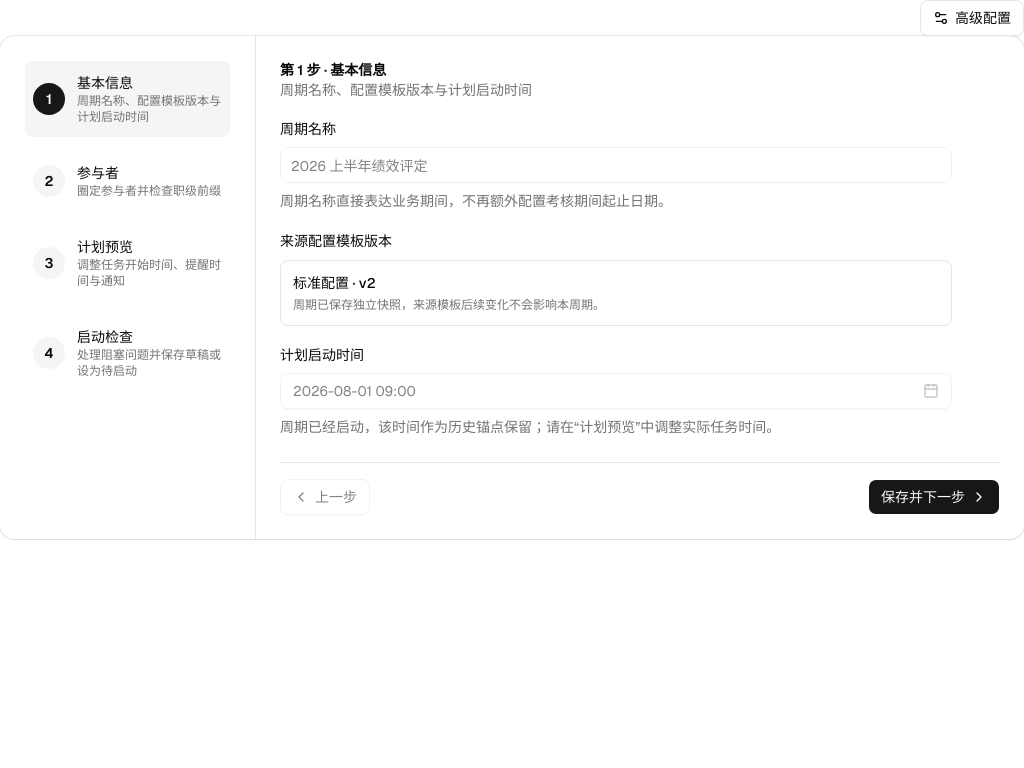
Test: CycleSetupEditor › ACTIVE 可补加参与者并调整任务时间，但保留已启动基础锚点且不允许重套模板
This screenshot has width=1024, height=768.
Expected: the field labelled "周期名称" is disabled, [280,147,952,183]
Expected: the button named "计划启动时间" is disabled, [280,373,952,409]
Click the button "2 参与者 圈定参与者并检查职级前缀": (128, 181) [24,150,231,212]
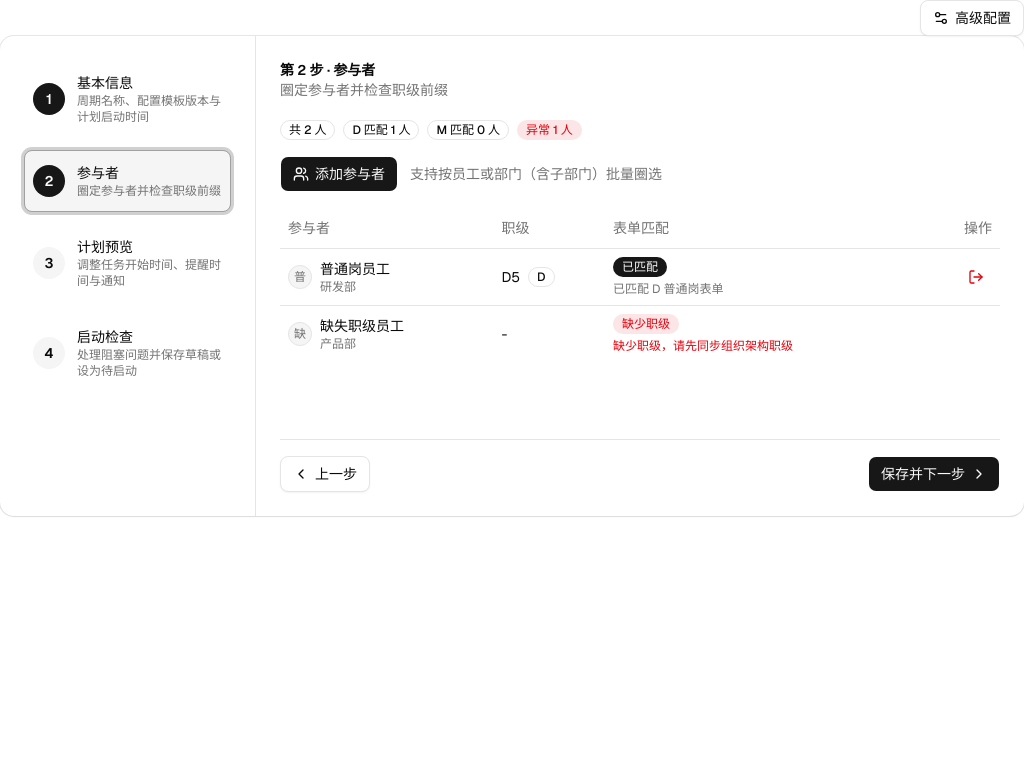
Now the button "添加参与者" is shown, box [280,156,398,192]
Now the button named "中途退出 普通岗员工" is shown, box [960,260,992,292]
Click the button "3 计划预览 调整任务开始时间、提醒时间与通知": (128, 263) [24,224,231,302]
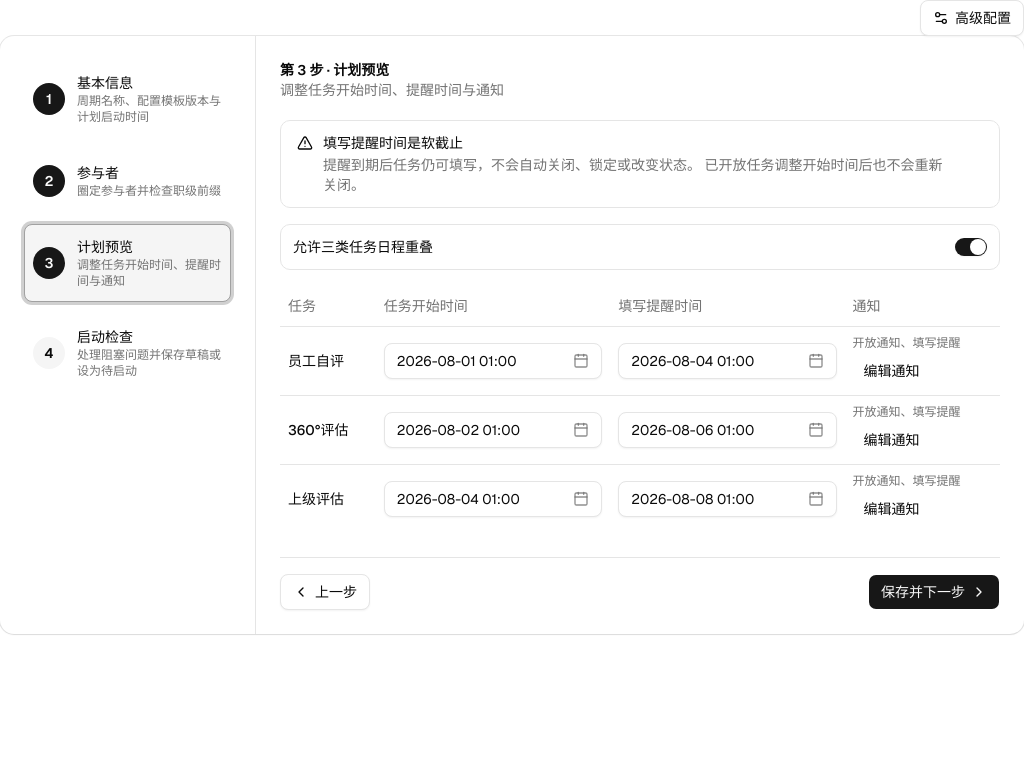
Now the button "编辑通知" in the row of "员工自评" is enabled, box [853,354,931,386]
Now the button "编辑通知" in the row of "360°评估" is enabled, box [853,424,931,456]
Now the button "编辑通知" in the row of "上级评估" is enabled, box [853,492,931,524]
Click the button "4 启动检查 处理阻塞问题并保存草稿或设为待启动": (128, 353) [24,314,231,392]
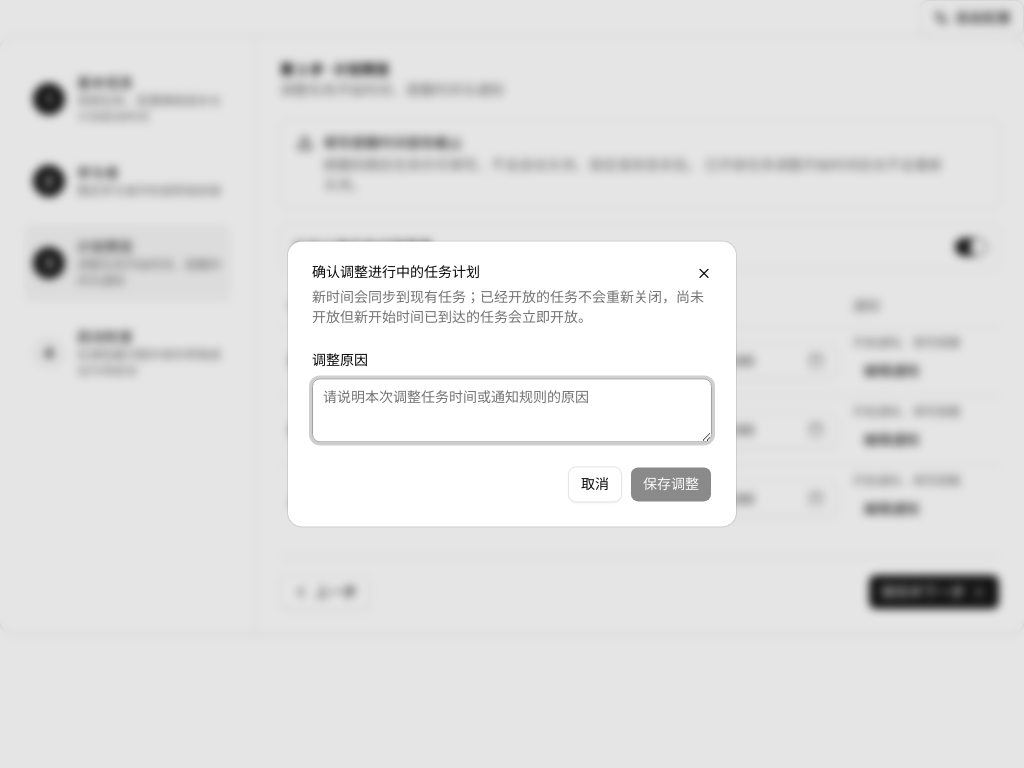
In the text box labelled "调整原因": (512, 411) [312,379,712,443], type "调整评估时间安排"
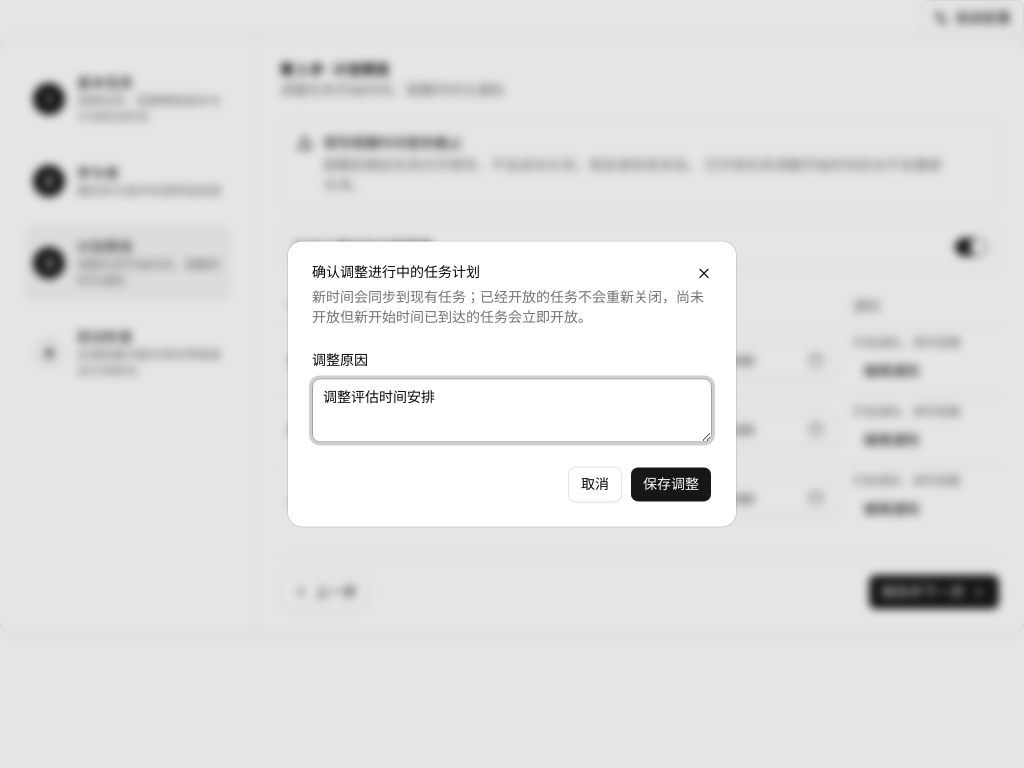
Click the button "保存调整": (671, 485) [630,467,712,503]
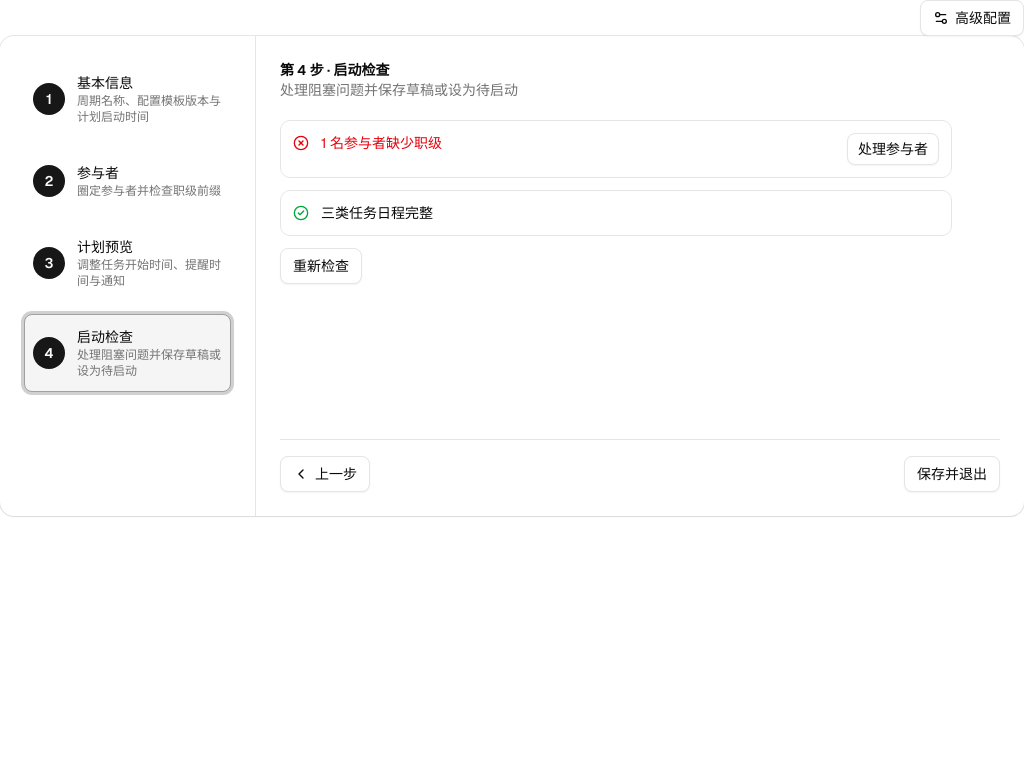
Now the button "保存并退出" is shown, box [904,456,1000,492]
